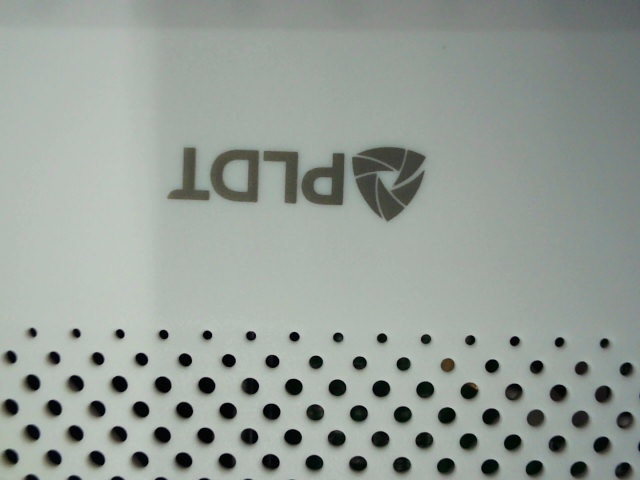BH_PLDT: (159, 123, 448, 232)
